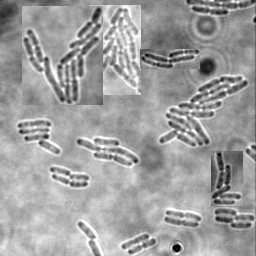Dividing: (52, 175, 89, 189), (128, 238, 157, 255), (166, 209, 202, 222), (164, 217, 200, 228), (192, 7, 229, 17)
Microcolony: (22, 6, 103, 105), (158, 76, 249, 147), (89, 5, 141, 95), (76, 137, 139, 168), (211, 151, 243, 206), (18, 120, 61, 155), (140, 49, 200, 69), (214, 208, 255, 229)
Rod: (121, 233, 150, 251), (78, 222, 99, 240), (50, 167, 72, 177), (69, 174, 90, 183)
